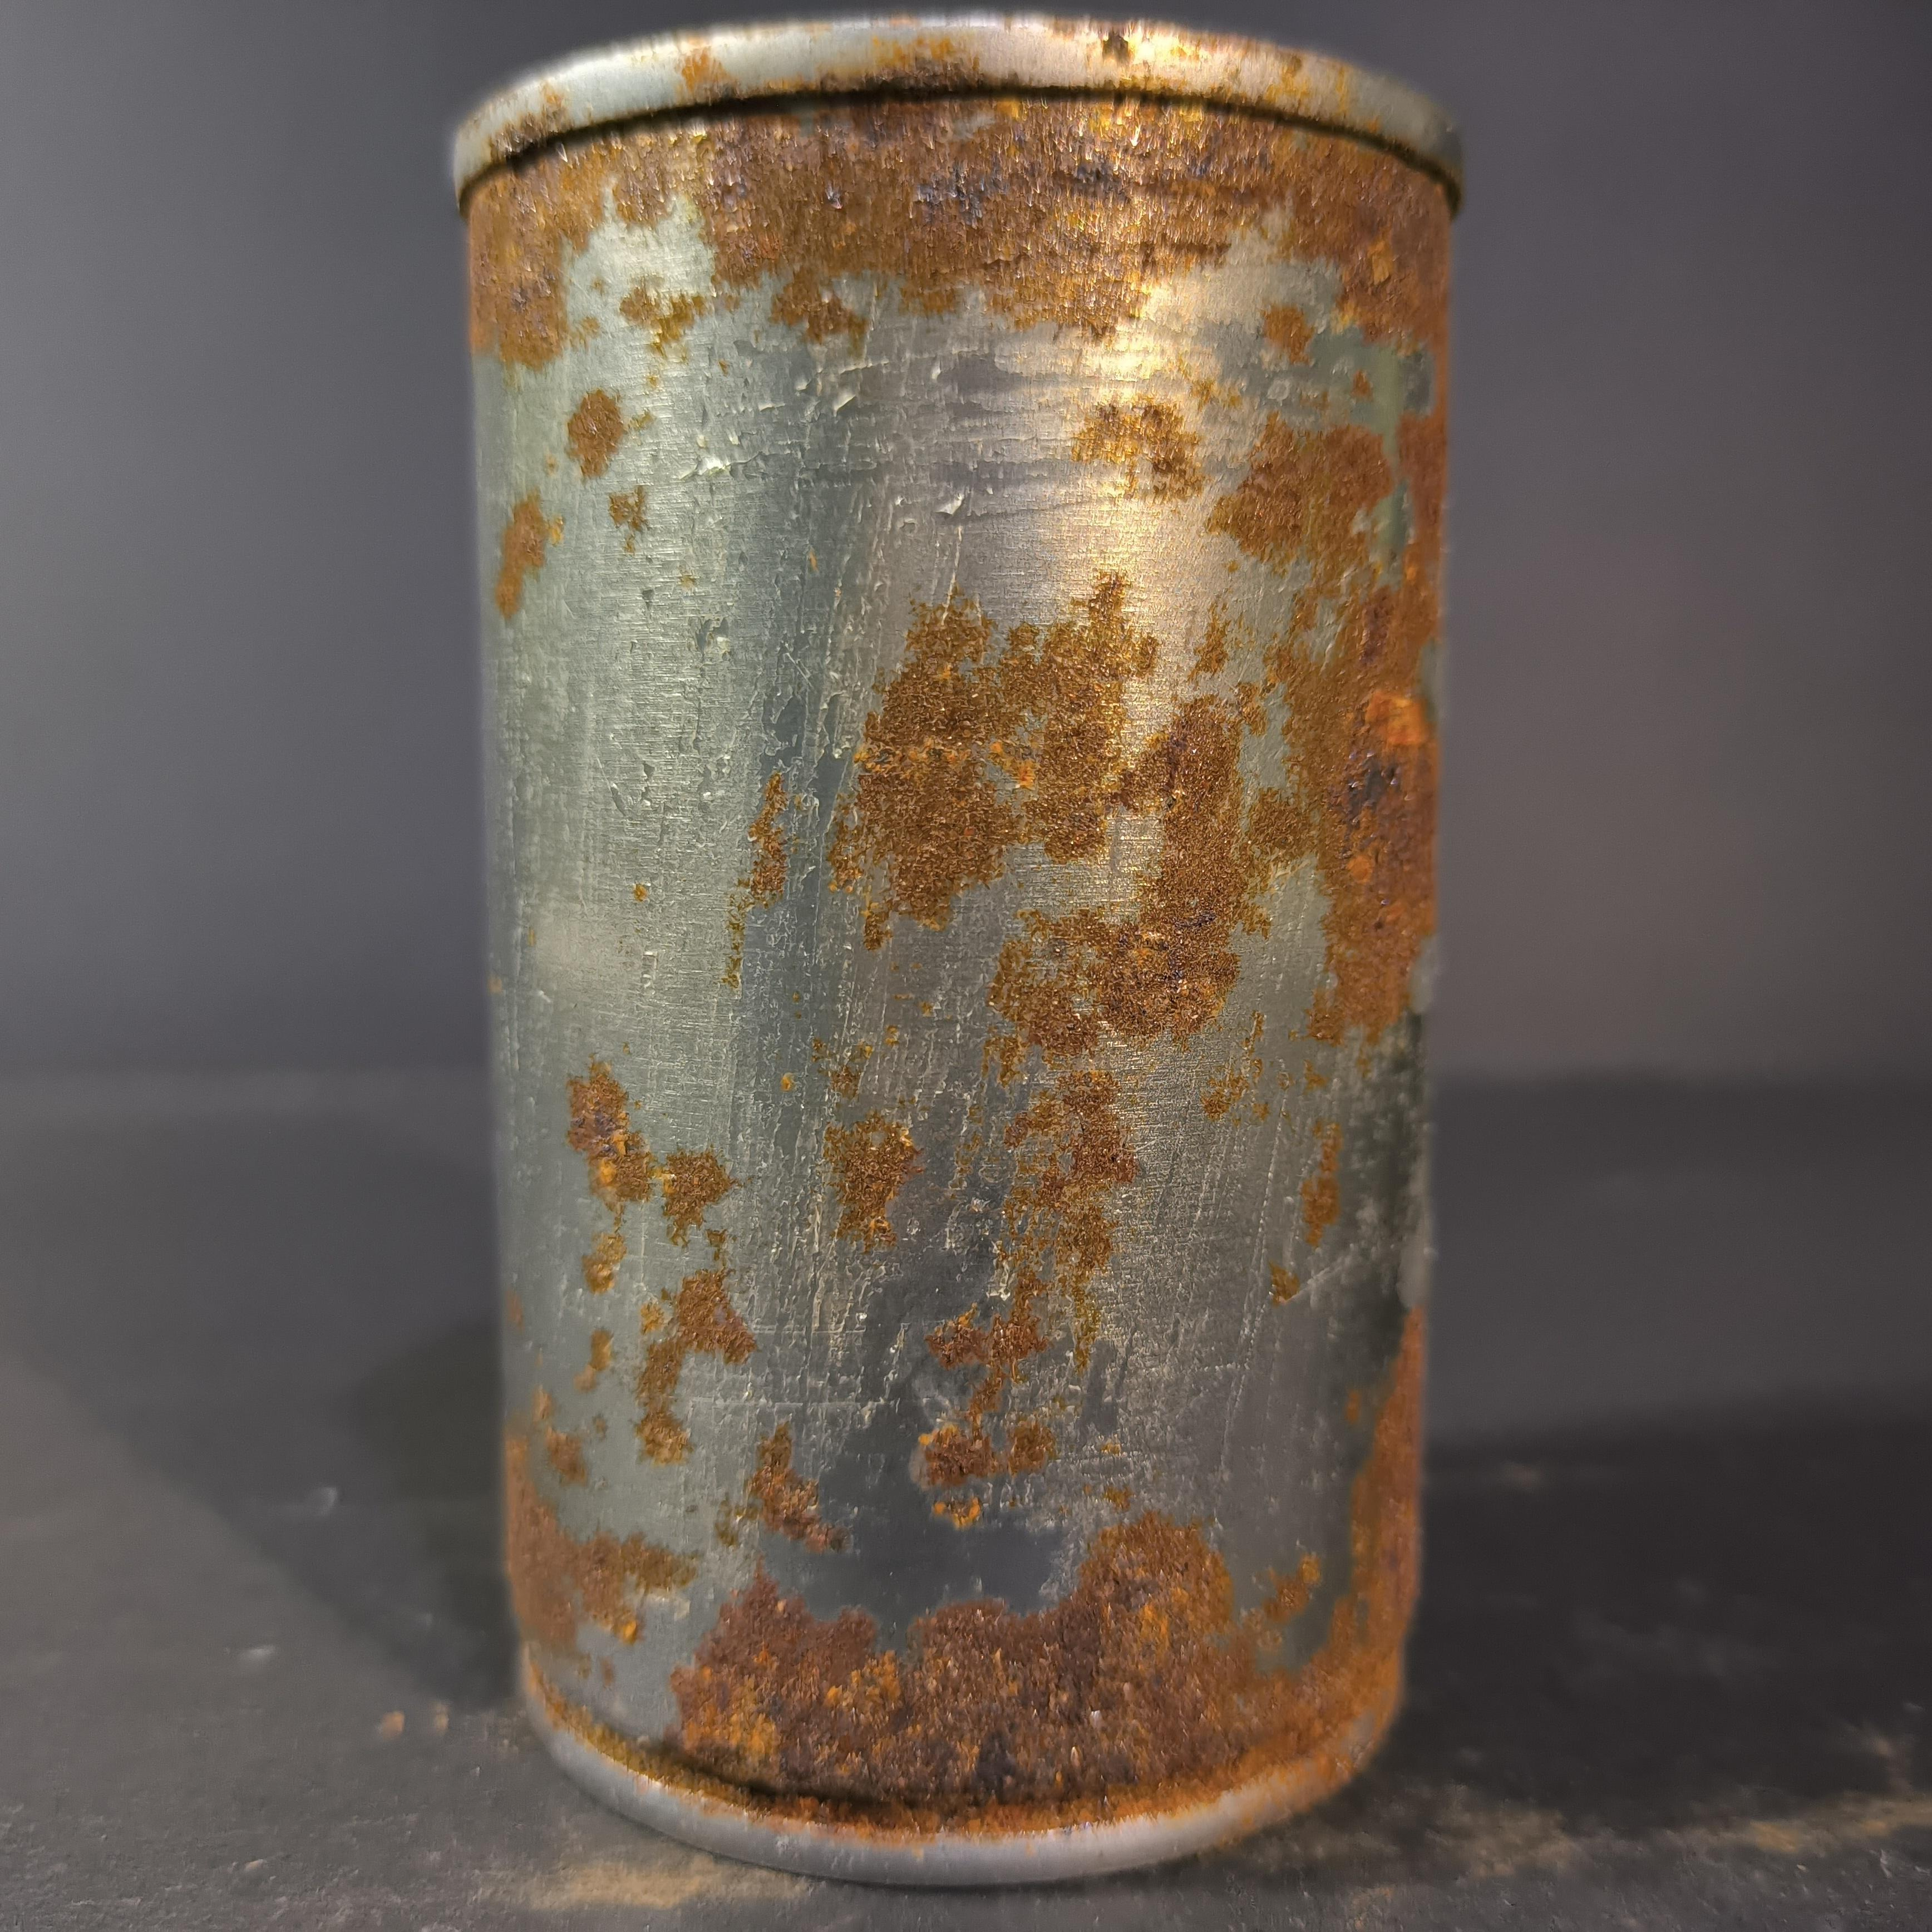Rusted: (428, 0, 1506, 1900)
